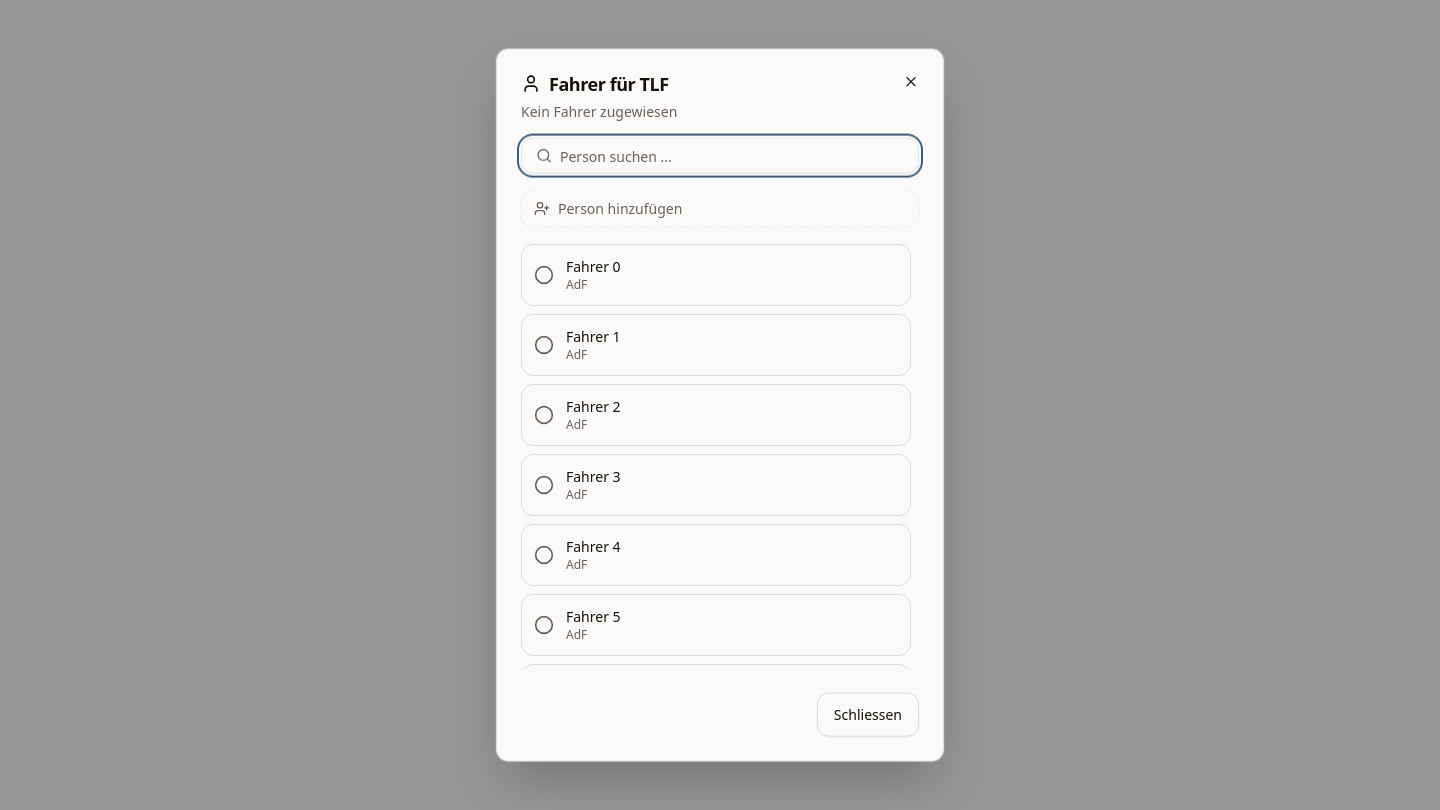
DriverAssignmentDialog layout › keeps the header and both actions when the add form opens over a long list
Click the button "Person hinzufügen": (620, 208) [521, 190, 919, 228]
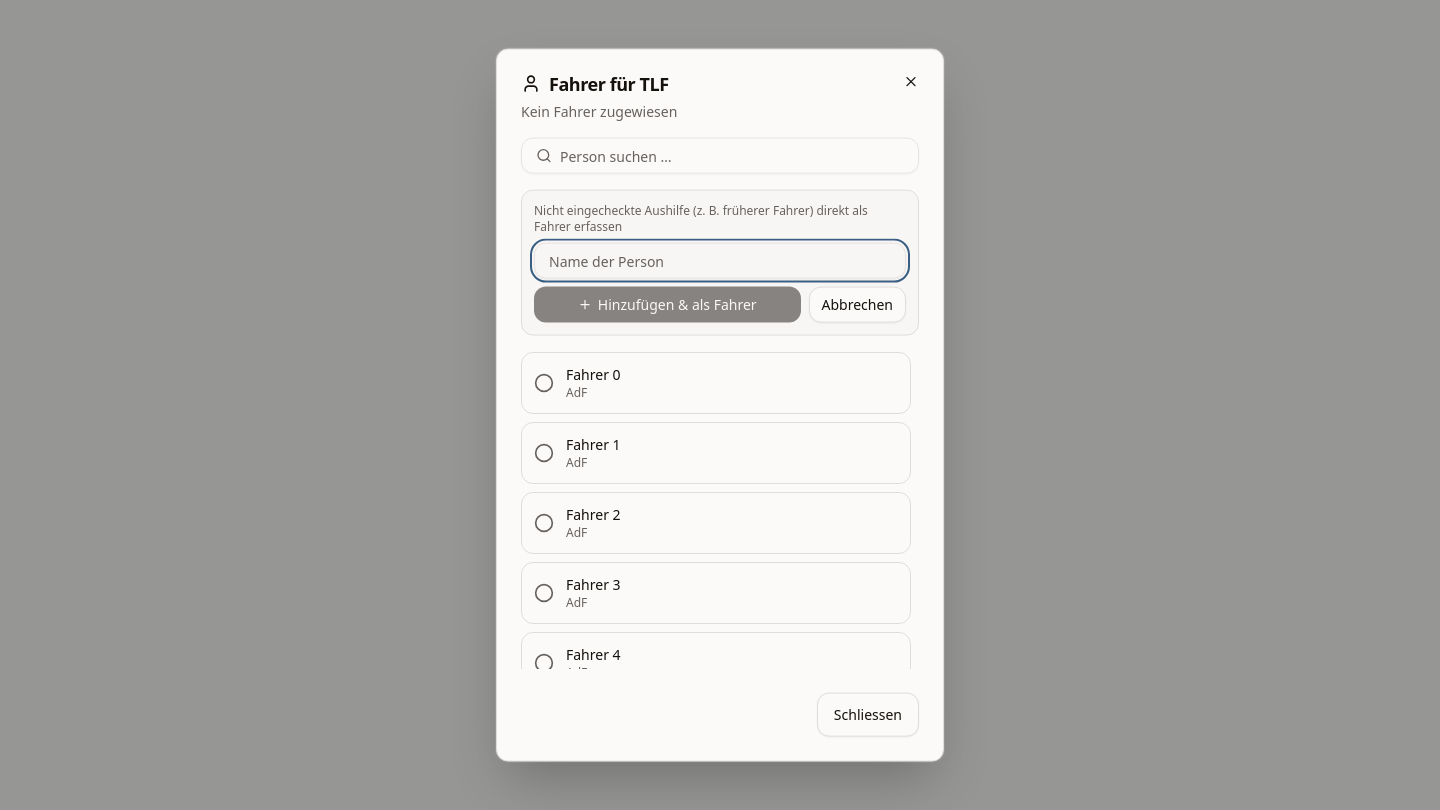
Expected: the heading "Fahrer für TLF" is shown, [521, 72, 669, 96]
Now the button "Hinzufügen & als Fahrer" is shown, box [534, 287, 800, 323]
